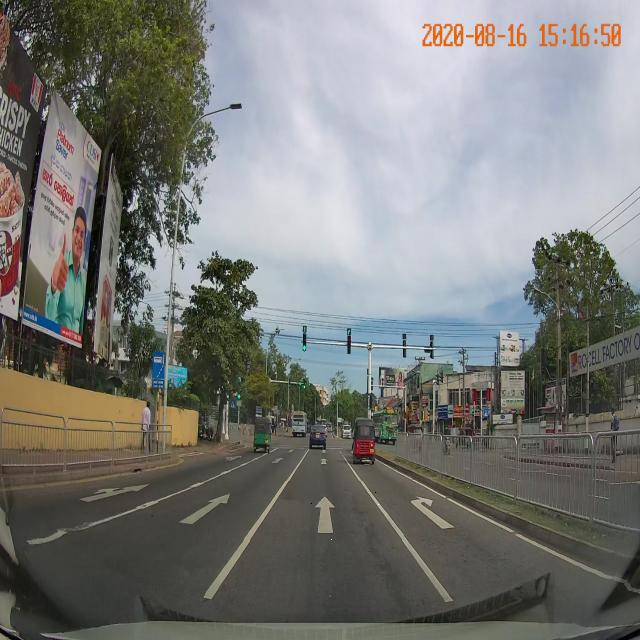forward: (245, 482, 404, 540)
